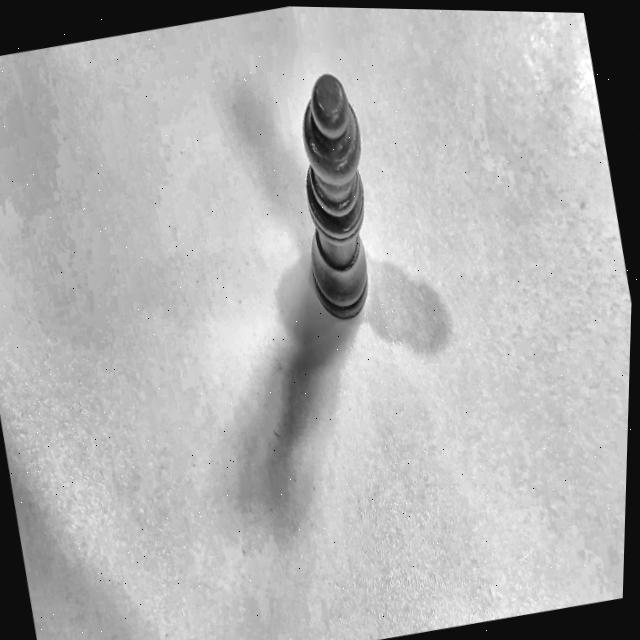black-queen: (261, 57, 420, 354)
